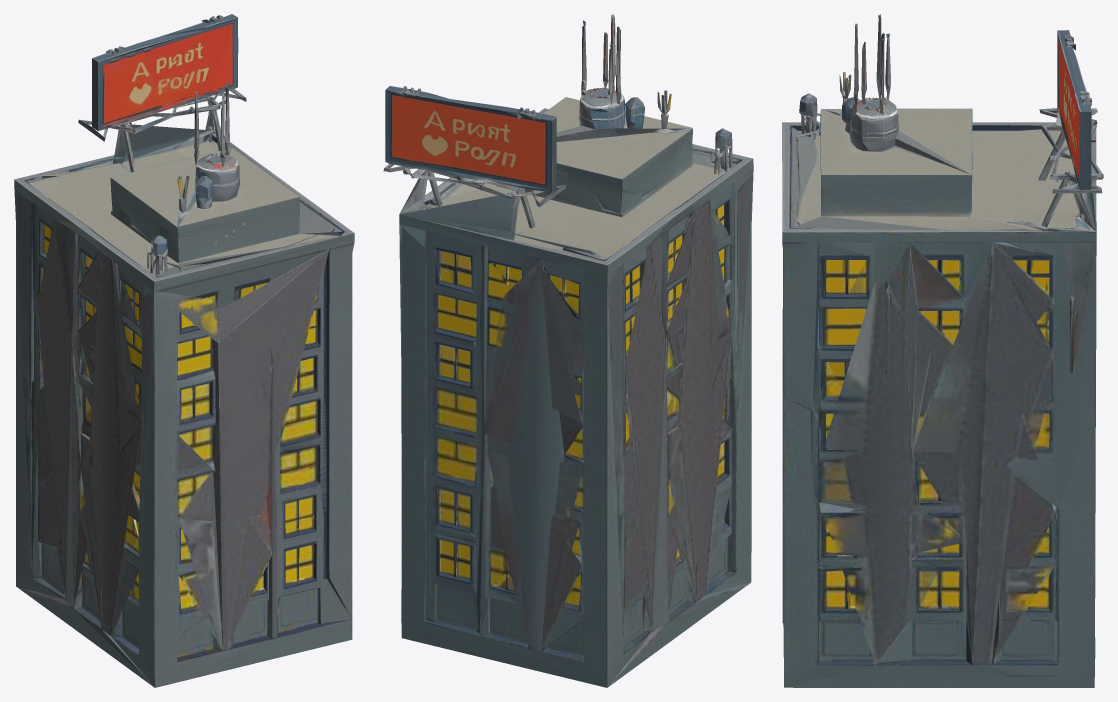
Rendered from predio-topo.glb.
3 renders of one model, left to right at view 1: azimuth 30°, elevation 25°; view 2: azimuth 150°, elevation 25°; view 3: azimuth 270°, elevation 25°, orthographic. The views are drawn at different scales.
Size of the model in its own units: 0.7913 by 1.9 by 0.9058.
1 material, 1 textured.
